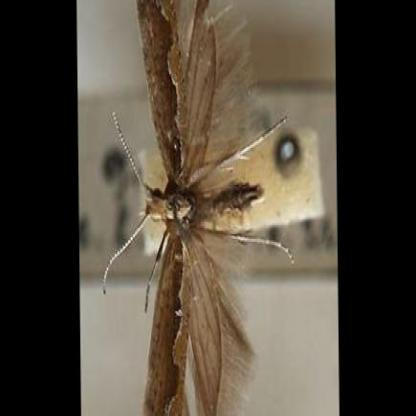plutella: (97, 0, 299, 414)
